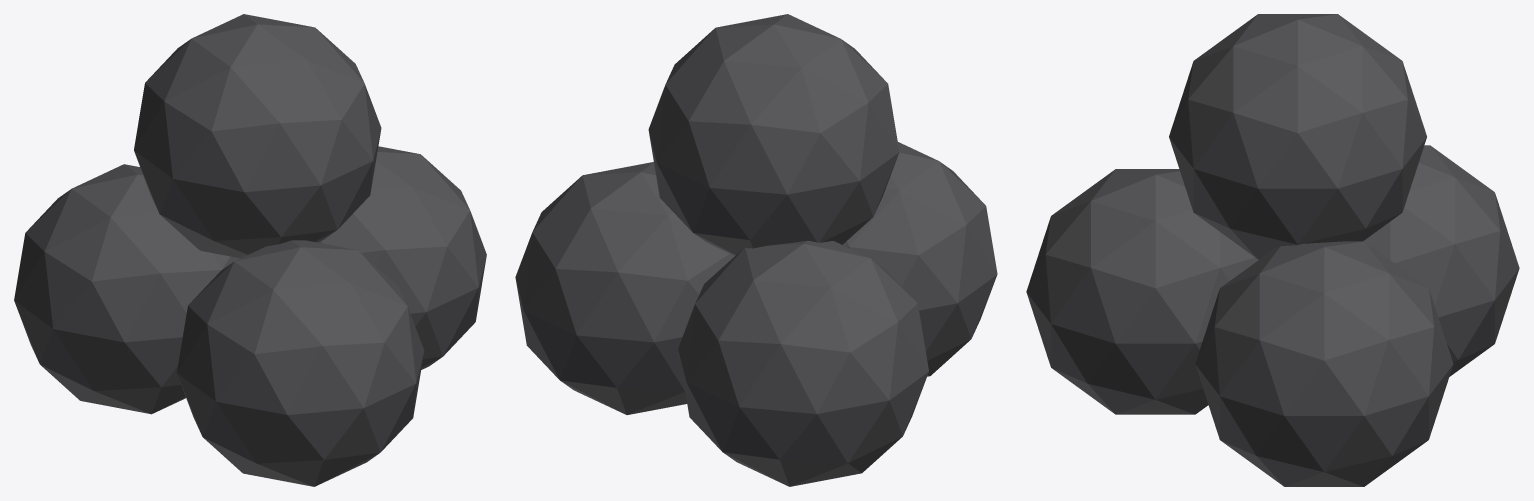
File: SM_Prop_CannonBalls_02.glb
The picture shows the model from 3 angles, left to right: view 1: azimuth 30°, elevation 25°; view 2: azimuth 150°, elevation 25°; view 3: azimuth 270°, elevation 25°; orthographic projection. The views are drawn at different scales.
Parts seen in each view (by area): view 1: SM_Prop_CannonBalls_02_part00; view 2: SM_Prop_CannonBalls_02_part00; view 3: SM_Prop_CannonBalls_02_part00.
Part boxes in pixels (x1,y1,x2,y2): SM_Prop_CannonBalls_02_part00: (14, 14, 486, 486); SM_Prop_CannonBalls_02_part00: (515, 14, 997, 486); SM_Prop_CannonBalls_02_part00: (1026, 14, 1519, 486).
Bounding box in the file's own units: 0.329 × 0.309 × 0.3431.
Materials: 1 (1 with a texture image).
